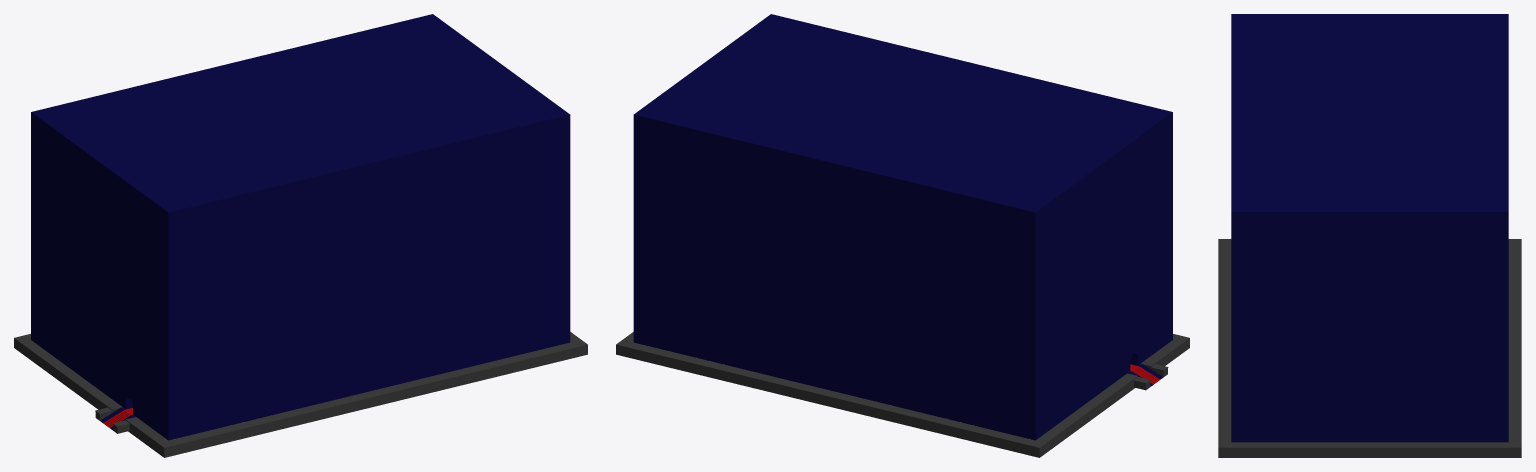
File: structure-boite-de-nuit.obj
The picture shows the model from 3 angles, left to right: view 1: azimuth 30°, elevation 25°; view 2: azimuth 150°, elevation 25°; view 3: azimuth 270°, elevation 25°; orthographic projection.
Visible parts, largest first — view 1: Structure; view 2: Structure; view 3: Structure.
Boxes of the visible parts, x1,y1,x2,y2 form: Structure: [14, 14, 587, 457]; Structure: [616, 14, 1189, 457]; Structure: [1218, 14, 1521, 457].
Size of the model in its own units: 429 by 231 by 256.
